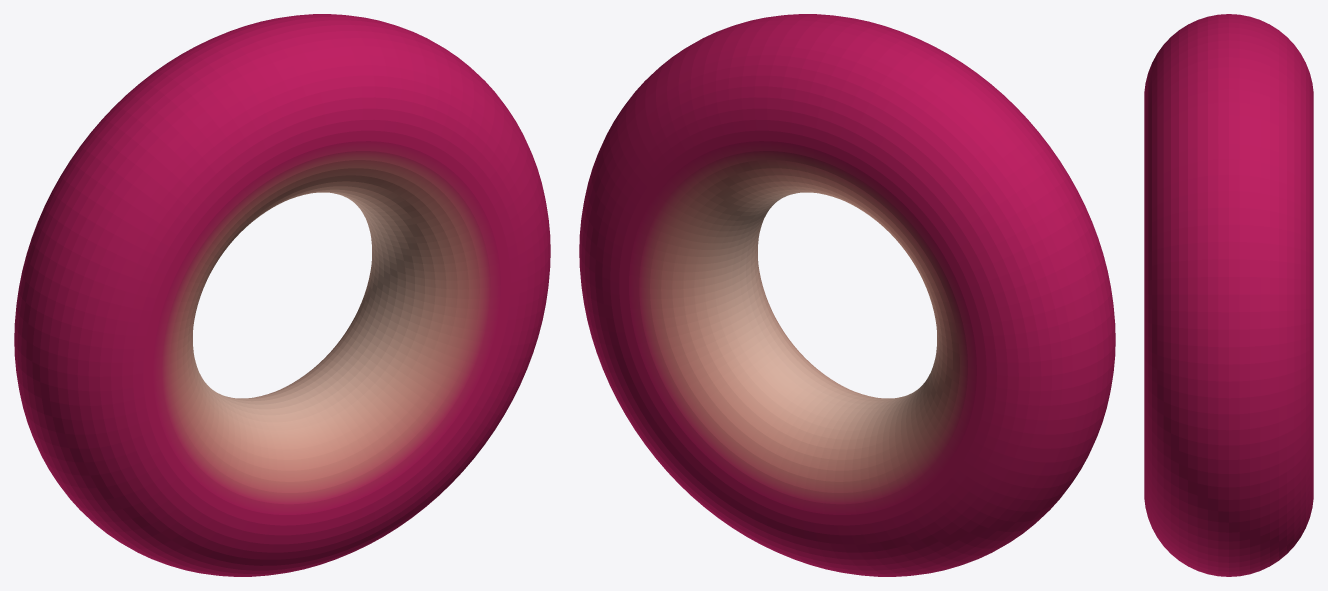
The picture shows the model from 3 angles, left to right: view 1: azimuth 30°, elevation 25°; view 2: azimuth 150°, elevation 25°; view 3: azimuth 270°, elevation 25°; orthographic projection. The views are drawn at different scales.
Visible parts, largest first — view 1: world; view 2: world; view 3: world.
Boxes of the visible parts, box(x1,y1,x2,y2) form: world: box(14, 14, 550, 576); world: box(579, 14, 1115, 576); world: box(1144, 14, 1313, 576).
Bounding box in the file's own units: 29.6 × 29.6 × 8.92.
